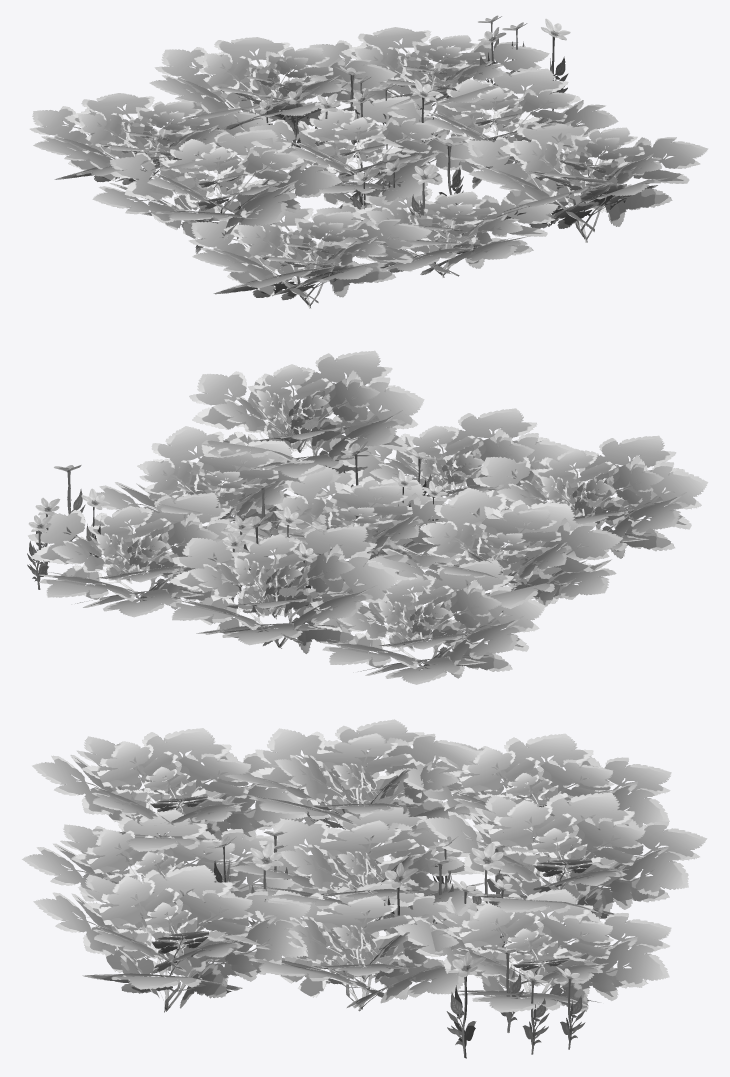
Rendered from p_flower_group.fbx.
The picture shows the model from 3 angles, top to bottom: view 1: azimuth 30°, elevation 25°; view 2: azimuth 150°, elevation 25°; view 3: azimuth 270°, elevation 25°; orthographic projection. The views are drawn at different scales.
Parts seen in each view (by area): view 1: p_vegetation_patch10, p_vegetation_patch13, p_vegetation_patch14, p_vegetation_patch7, p_vegetation_patch12, p_vegetation_patch6, p_vegetation_patch15, p_vegetation_patch9, p_vegetation_patch2, p_sigl_flowergroup; view 2: p_vegetation_patch7, p_vegetation_patch10, p_vegetation_patch6, p_vegetation_patch13, p_vegetation_patch2, p_vegetation_patch14, p_vegetation_patch9, p_vegetation_patch15, p_vegetation_patch12, p_sigl_flowergroup; view 3: p_vegetation_patch10, p_vegetation_patch7, p_vegetation_patch2, p_vegetation_patch14, p_vegetation_patch13, p_vegetation_patch9, p_vegetation_patch12, p_vegetation_patch6, p_vegetation_patch15, p_sigl_flowergroup.
Part boxes in pixels (<box>): p_vegetation_patch10: <box>464,123,708,242</box>; p_vegetation_patch13: <box>92,129,341,253</box>; p_vegetation_patch14: <box>188,208,431,308</box>; p_vegetation_patch7: <box>149,37,397,140</box>; p_vegetation_patch12: <box>234,96,483,209</box>; p_vegetation_patch6: <box>29,93,272,184</box>; p_vegetation_patch15: <box>316,188,558,277</box>; p_vegetation_patch9: <box>369,68,618,188</box>; p_vegetation_patch2: <box>308,27,549,118</box>; p_sigl_flowergroup: <box>254,15,570,224</box>; p_vegetation_patch7: <box>169,526,400,653</box>; p_vegetation_patch10: <box>189,350,424,478</box>; p_vegetation_patch6: <box>310,560,545,684</box>; p_vegetation_patch13: <box>370,487,622,612</box>; p_vegetation_patch2: <box>28,493,262,617</box>; p_vegetation_patch14: <box>473,435,708,560</box>; p_vegetation_patch9: <box>88,426,340,542</box>; p_vegetation_patch15: <box>339,408,574,527</box>; p_vegetation_patch12: <box>221,464,473,581</box>; p_sigl_flowergroup: <box>27,441,447,605</box>; p_vegetation_patch10: <box>33,865,310,1012</box>; p_vegetation_patch7: <box>424,792,707,925</box>; p_vegetation_patch2: <box>393,889,671,1012</box>; p_vegetation_patch14: <box>32,728,308,851</box>; p_vegetation_patch13: <box>225,719,480,843</box>; p_vegetation_patch9: <box>224,882,479,1011</box>; p_vegetation_patch12: <box>229,804,484,927</box>; p_vegetation_patch6: <box>394,733,671,855</box>; p_vegetation_patch15: <box>22,809,302,936</box>; p_sigl_flowergroup: <box>206,831,585,1058</box>.
Bounding box in the file's own units: 122 × 22.88 × 126.
